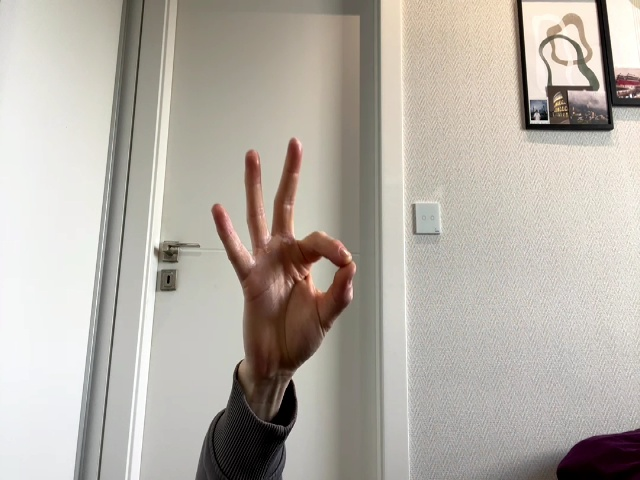O: (213, 137, 356, 365)
